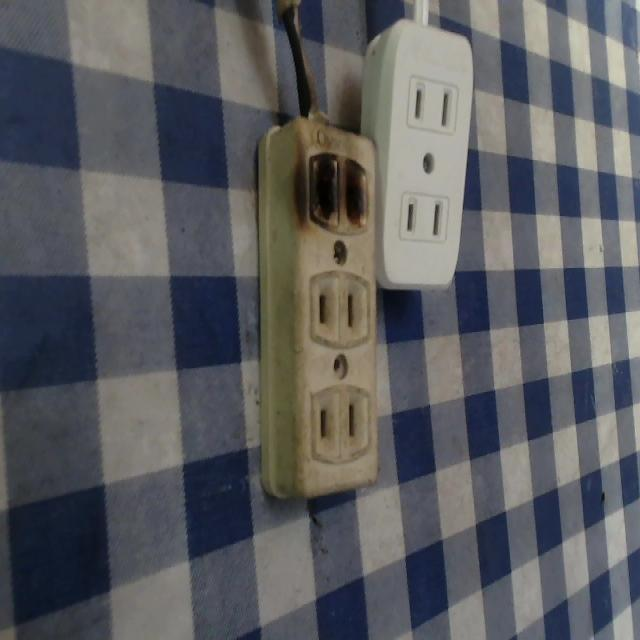-: (301, 144, 372, 237)
